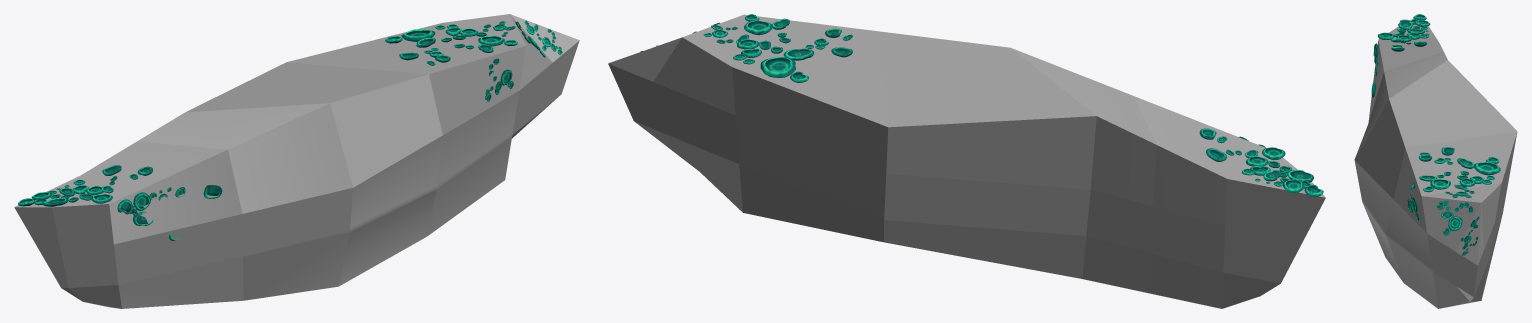
Rendered from shrooms2.fbx.
The picture shows the model from 3 angles, left to right: view 1: azimuth 30°, elevation 25°; view 2: azimuth 150°, elevation 25°; view 3: azimuth 270°, elevation 25°; orthographic projection. The views are drawn at different scales.
Parts seen in each view (by area): view 1: polySurface90, shrooms11; view 2: polySurface90, shrooms11; view 3: polySurface90, shrooms11.
Part boxes in pixels (box(x1,y1,x2,y2)): polySurface90: box(14, 14, 579, 308); shrooms11: box(18, 20, 562, 240); polySurface90: box(608, 14, 1325, 308); shrooms11: box(640, 14, 1323, 196); polySurface90: box(1354, 18, 1517, 308); shrooms11: box(1371, 14, 1500, 255).
Bounding box in the file's own units: 2067 × 606 × 575.
